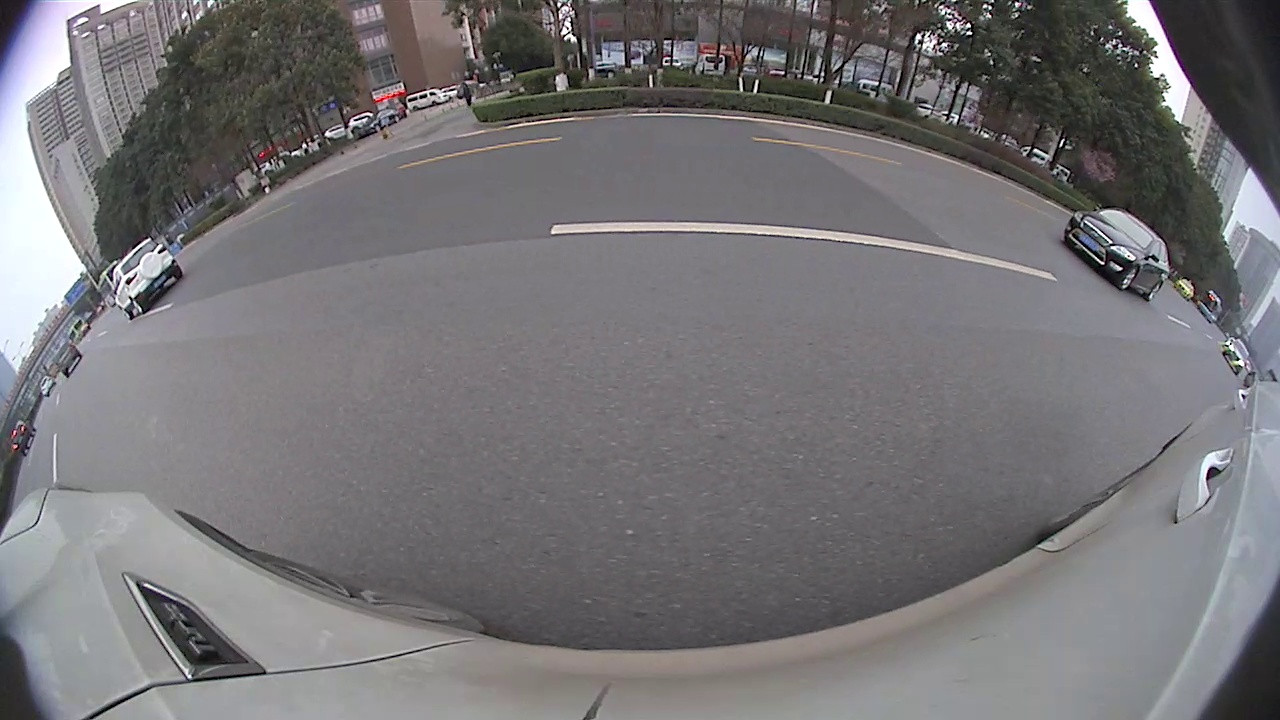bus: (744, 7, 1195, 335)
car: (1162, 217, 1279, 396), (474, 154, 561, 207), (590, 149, 657, 196), (696, 155, 739, 190), (561, 153, 587, 188)
front: (745, 175, 764, 210)
rear: (867, 195, 921, 268)
